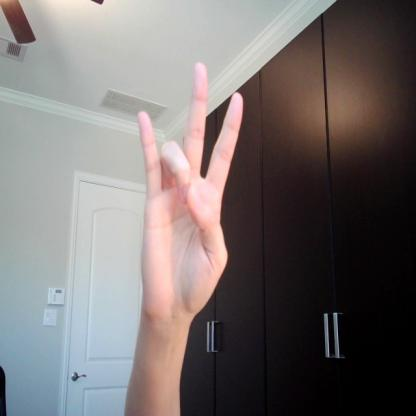seven: (134, 60, 248, 317)
